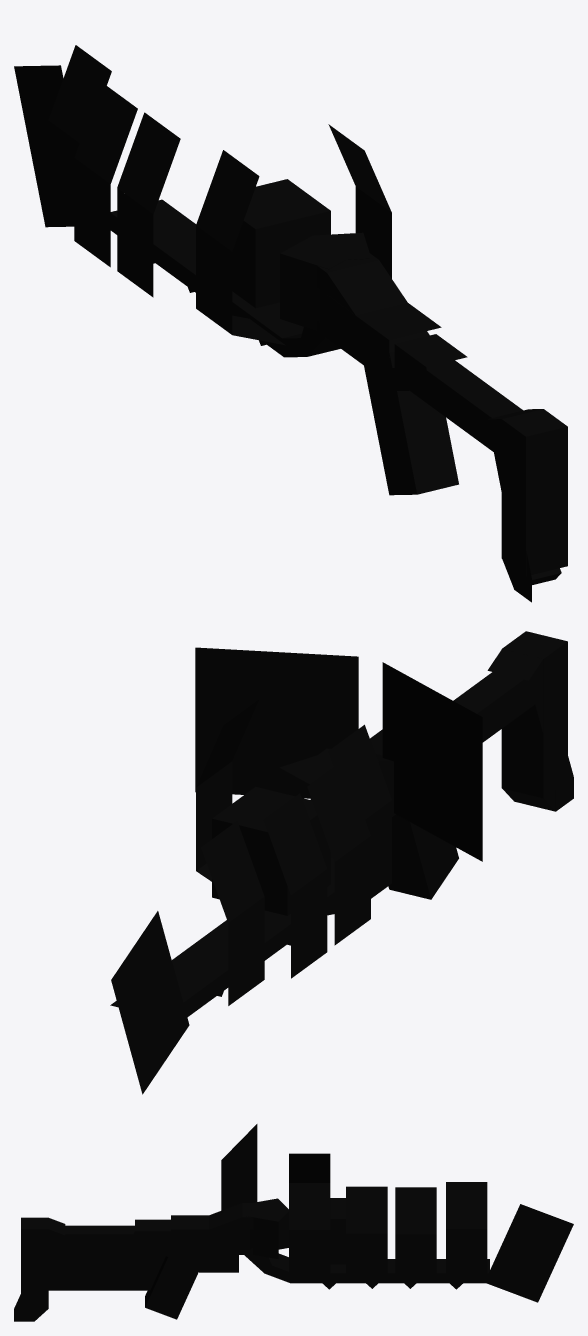
The model's file is jeg_hypersonic_cannon.glb.
3 views of the same model, one above another, from view 1: azimuth 30°, elevation 25°; view 2: azimuth 150°, elevation 25°; view 3: azimuth 270°, elevation 25° (orthographic). The views are drawn at different scales.
Visible parts, largest first — view 1: Gun; view 2: Gun; view 3: Gun.
Part boxes in pixels (x1,y1,x2,y2): Gun: [14, 45, 567, 602]; Gun: [110, 631, 573, 1094]; Gun: [14, 1124, 573, 1321].
Bounding box in the file's own units: 0.3423 × 0.3044 × 1.01.
1 material, 1 textured.
